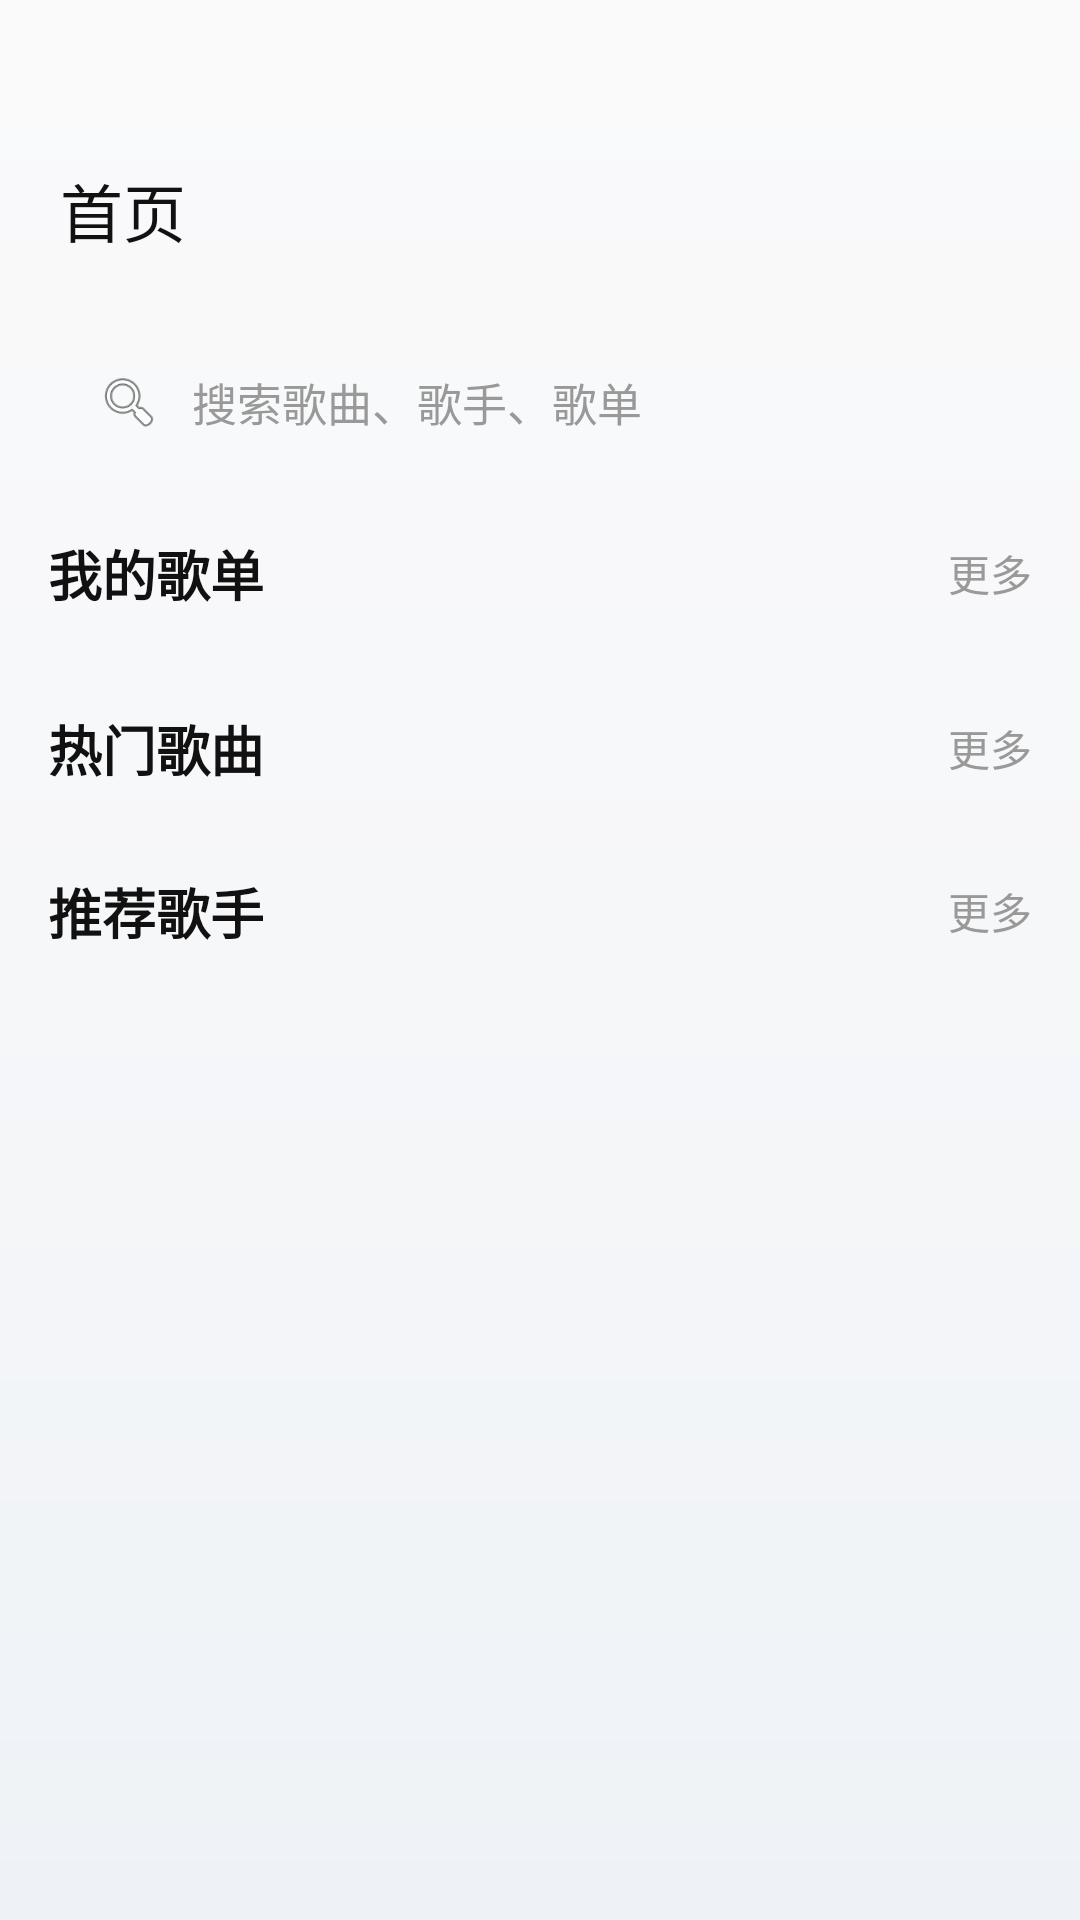

Locate icon controls on the screen. Image size 1080w x 1920h, boxes as [x1,y1,x2,y2].
search: [105,378,153,427]
